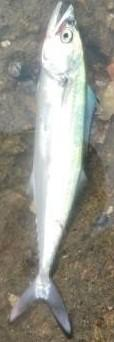fish: (9, 0, 97, 335)
